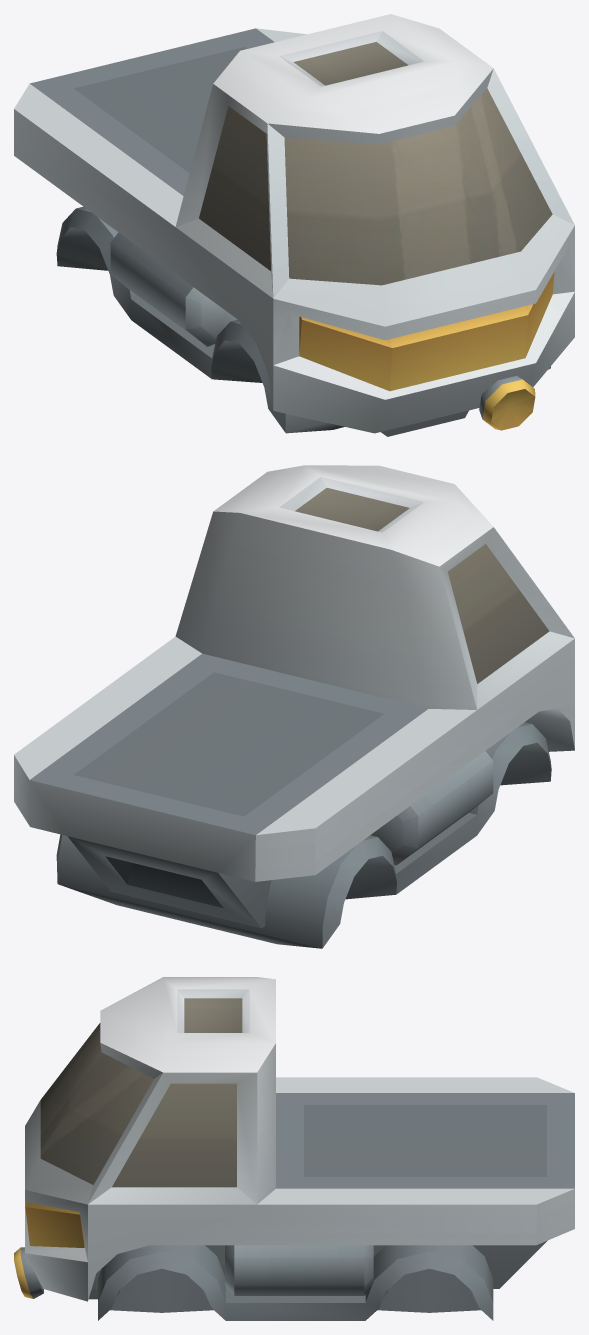
File: spacetruck.glb
3 views of the same model, one above another, from view 1: azimuth 30°, elevation 25°; view 2: azimuth 150°, elevation 25°; view 3: azimuth 270°, elevation 25° (orthographic). The views are drawn at different scales.
Parts seen in each view (by area): view 1: spacetruck_Cube.15125; view 2: spacetruck_Cube.15125; view 3: spacetruck_Cube.15125.
Boxes of the visible parts, left/top/right/bottom form: spacetruck_Cube.15125: left=14, top=14, right=574, bottom=436; spacetruck_Cube.15125: left=14, top=465, right=574, bottom=948; spacetruck_Cube.15125: left=14, top=977, right=574, bottom=1320.
Size of the model in its own units: 0.4895 by 0.4774 by 0.8933.
Materials: 1 (1 with a texture image).
